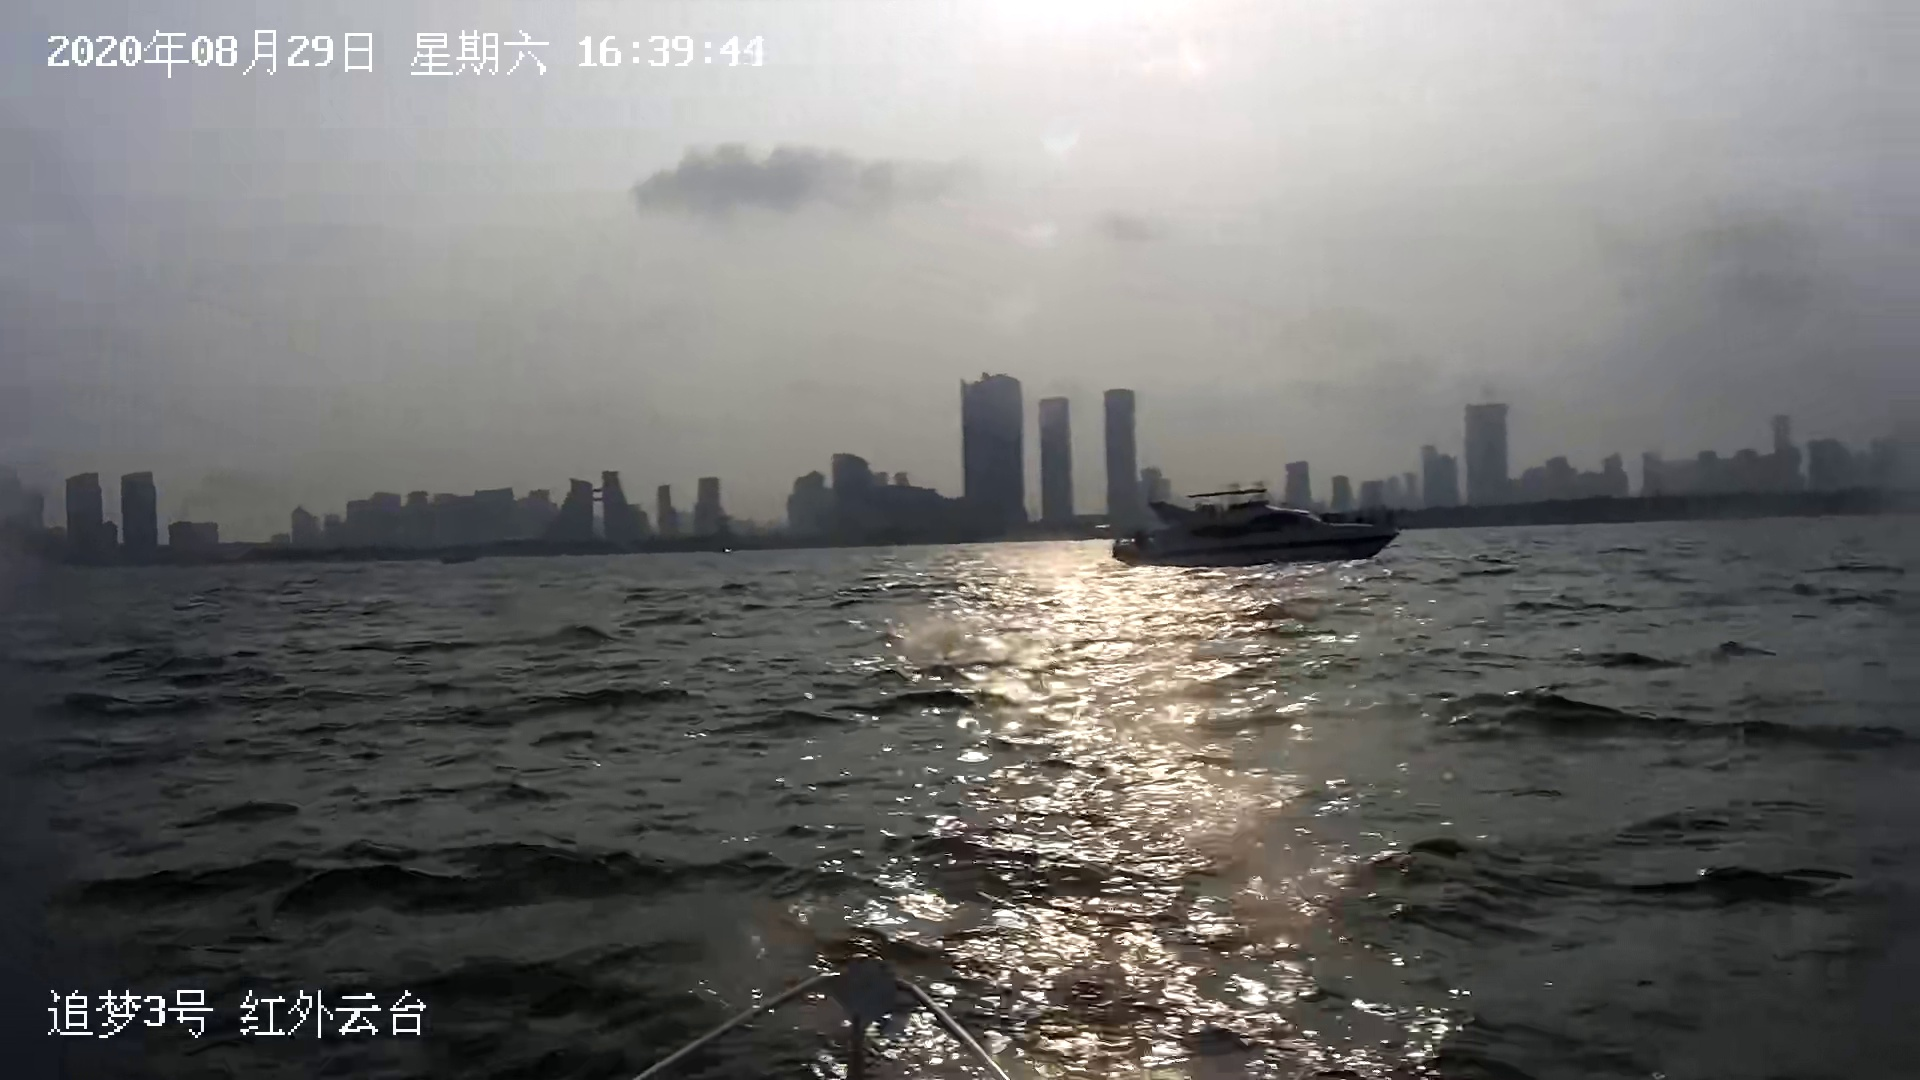barrier: (1096, 491, 1398, 556)
coast: (1, 367, 1920, 564)
